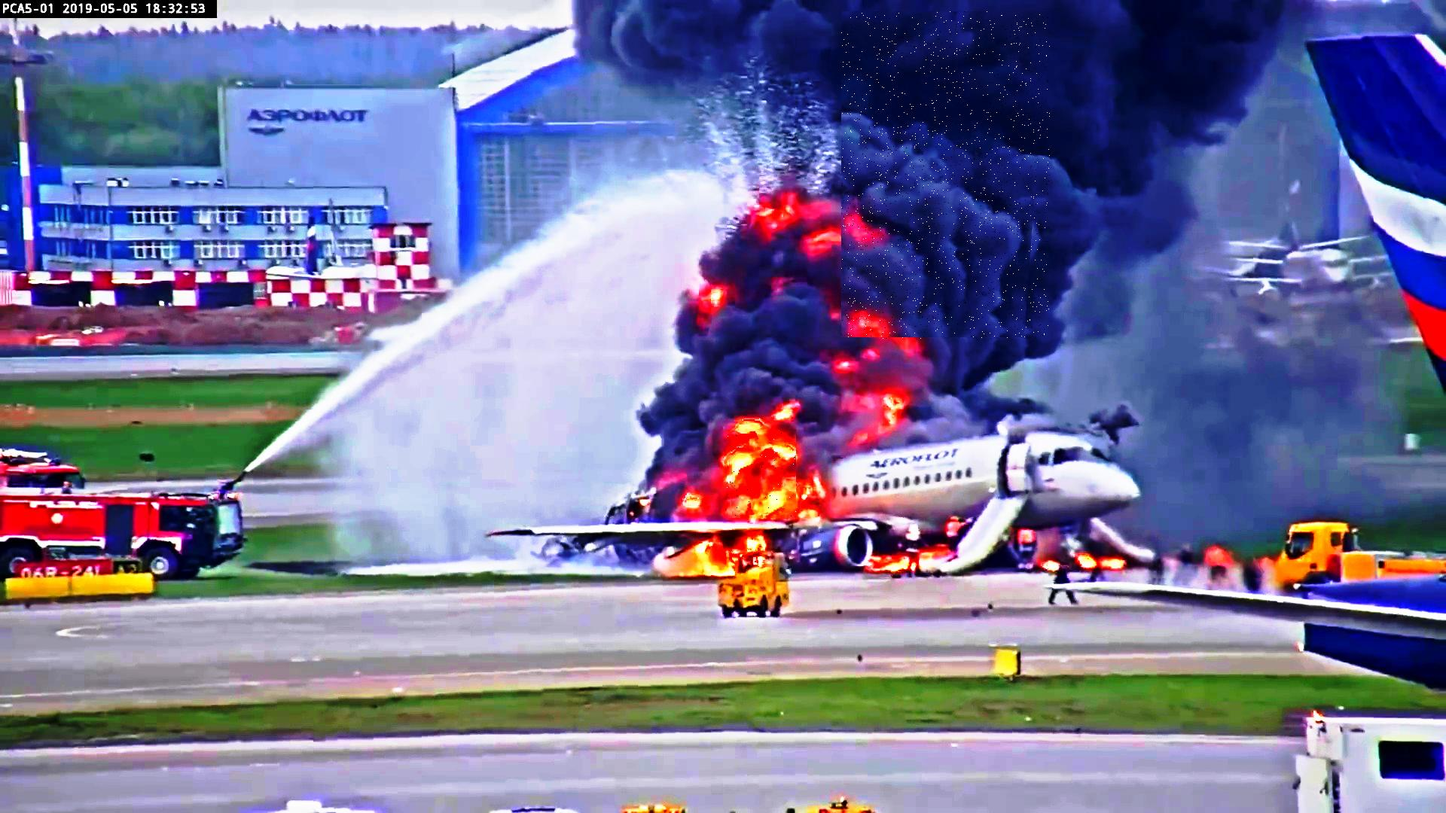fire: (727, 430, 796, 518)
smoke: (842, 12, 1051, 339)
